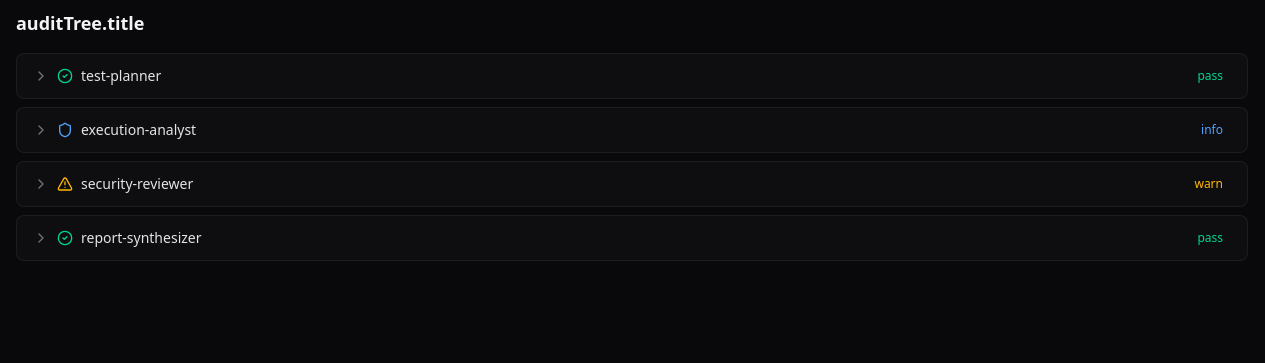
AuditTreeView › displays findings when a role node is expanded
This screenshot has width=1265, height=363.
Click the text "security-reviewer": (137, 184) [81, 174, 193, 194]
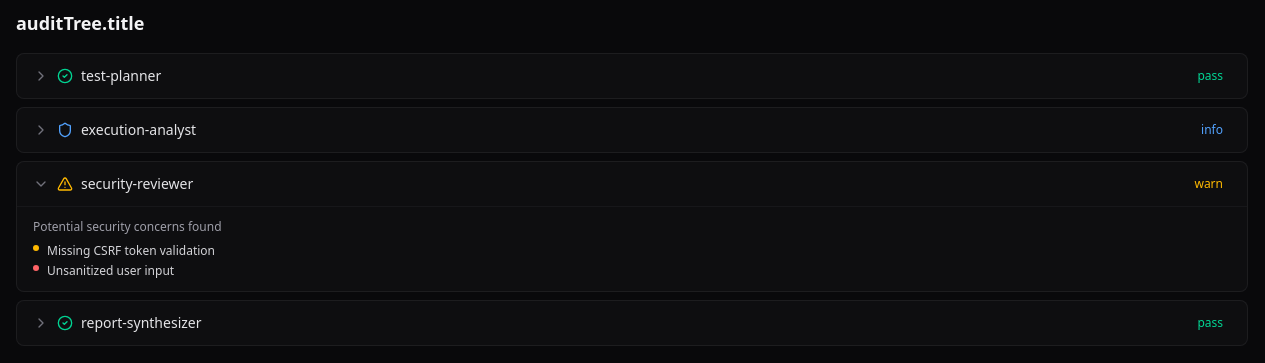
Expected: the list item "Missing CSRF token validation" is shown, [33, 242, 215, 259]
Expected: the list item "Unsanitized user input" is shown, [33, 262, 174, 279]
